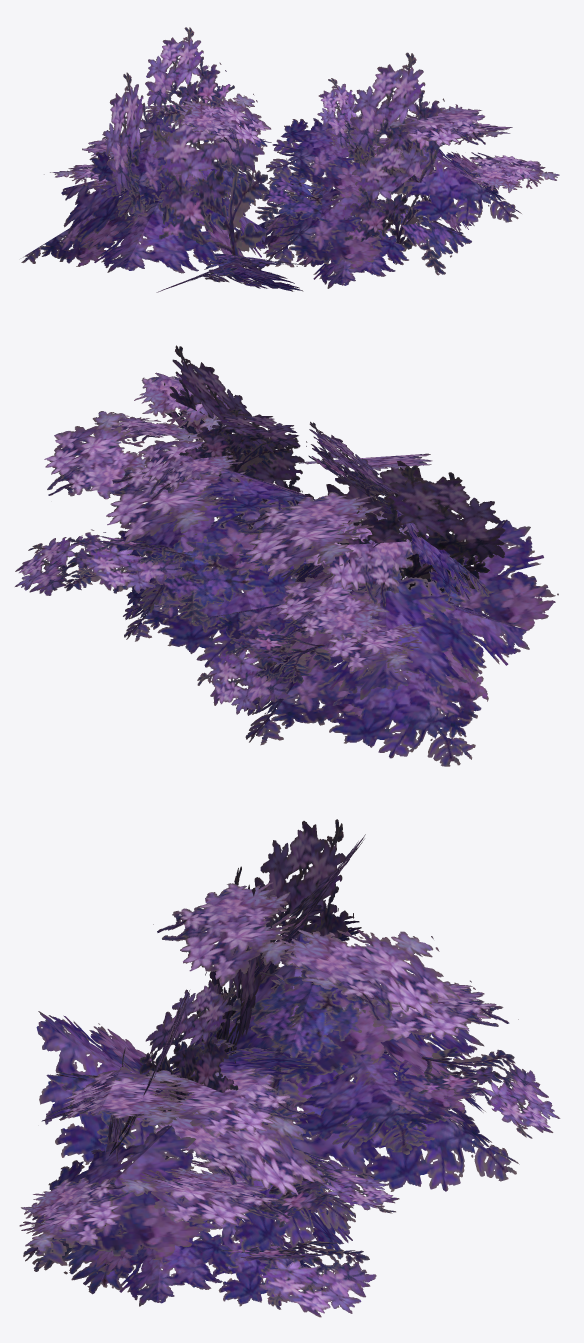
File: XSZY_tree8.fbx
3 renders of one model, top to bottom at view 1: azimuth 30°, elevation 25°; view 2: azimuth 150°, elevation 25°; view 3: azimuth 270°, elevation 25°, orthographic. The views are drawn at different scales.
Parts seen in each view (by area): view 1: XSZY_tree8; view 2: XSZY_tree8; view 3: XSZY_tree8.
Boxes of the visible parts, x1,y1,x2,y2 form: XSZY_tree8: (21, 27, 559, 292); XSZY_tree8: (15, 345, 558, 766); XSZY_tree8: (19, 819, 560, 1317).
Size of the model in its own units: 0.7097 by 0.3689 by 0.5223.
